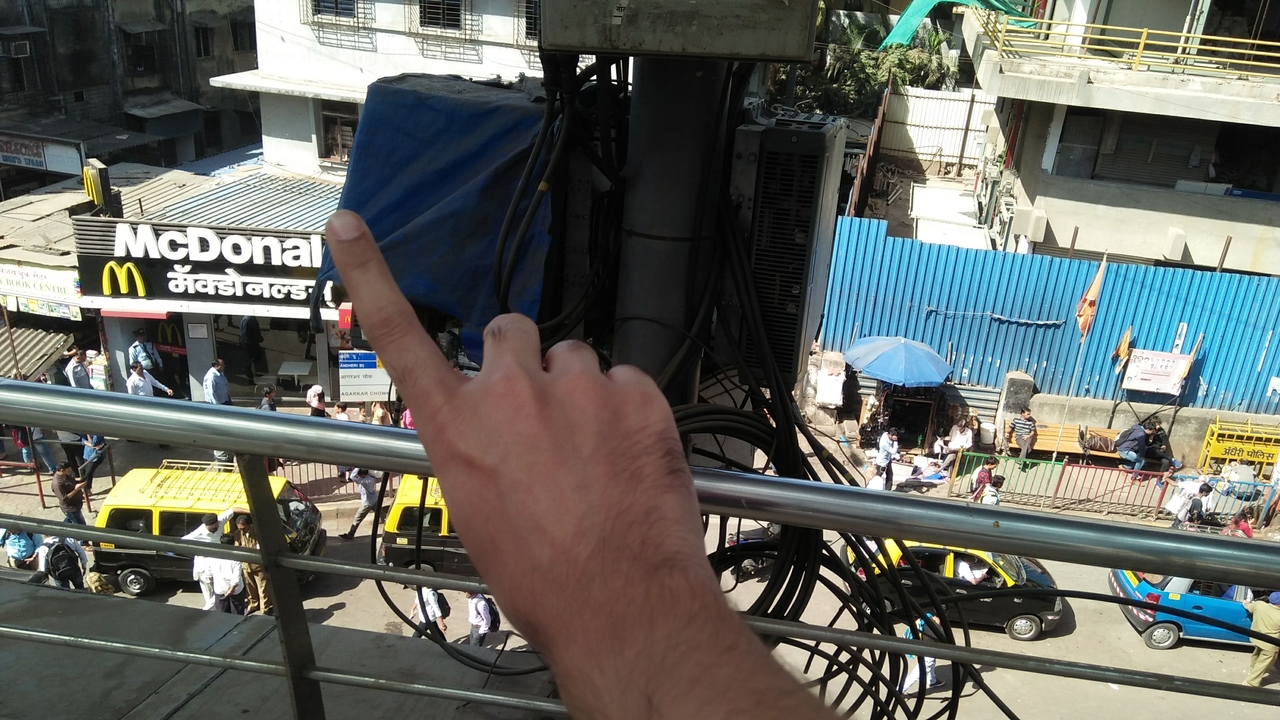fingertip: (312, 206, 372, 258)
